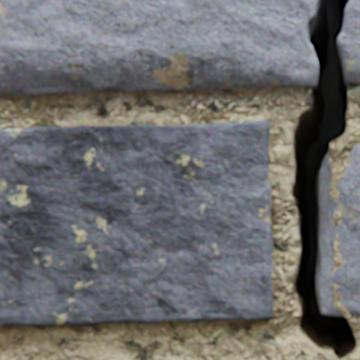brick: (0, 121, 273, 325), (322, 144, 359, 315)
broken_brick: (0, 0, 318, 95), (337, 0, 359, 84)
crack: (288, 0, 358, 359)
